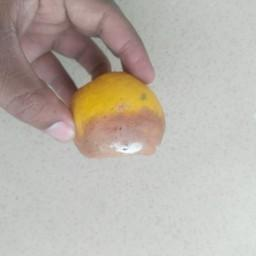Bad_orange: (69, 69, 167, 160)
